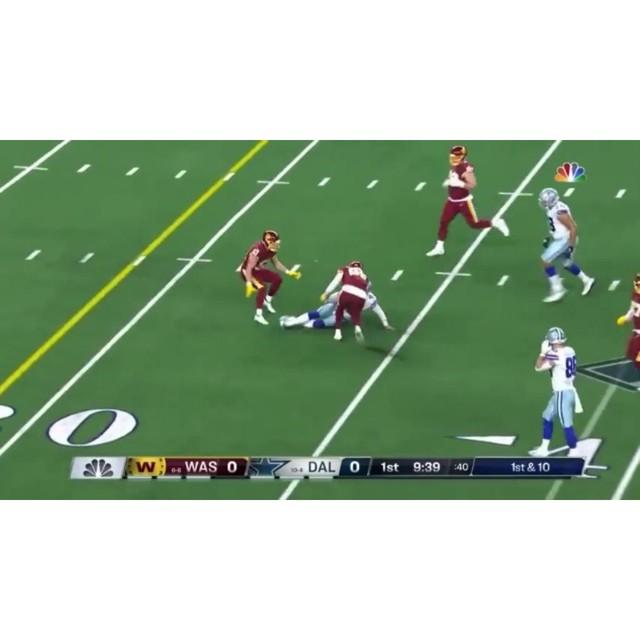american-football-player: (427, 144, 508, 257), (529, 328, 590, 457), (535, 188, 596, 301), (238, 230, 300, 325), (324, 262, 376, 341), (614, 273, 640, 391)
